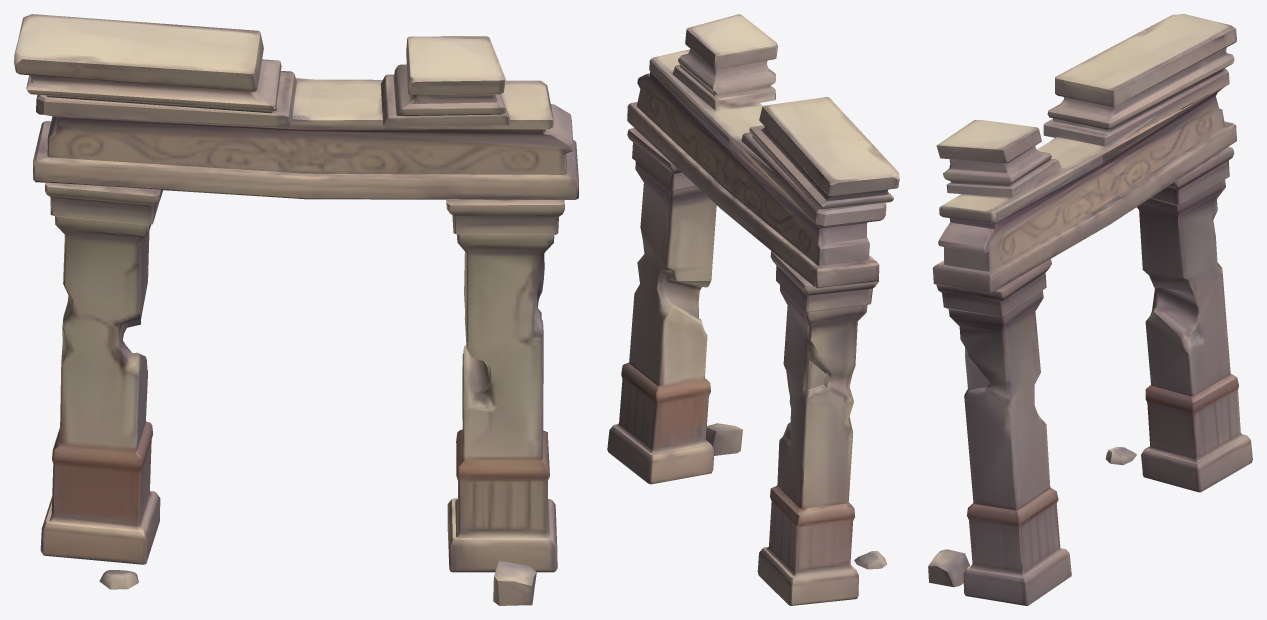
The model's file is SM_RuinGate_01.fbx.
The picture shows the model from 3 angles, left to right: view 1: azimuth 30°, elevation 25°; view 2: azimuth 150°, elevation 25°; view 3: azimuth 270°, elevation 25°; orthographic projection. The views are drawn at different scales.
Parts seen in each view (by area): view 1: SM_RuinGate_01; view 2: SM_RuinGate_01; view 3: SM_RuinGate_01.
Part boxes in pixels (x1,y1,x2,y2): SM_RuinGate_01: [14, 14, 578, 605]; SM_RuinGate_01: [607, 14, 899, 605]; SM_RuinGate_01: [928, 14, 1252, 605].
Size of the model in its own units: 80.82 by 92.24 by 62.62.
Materials: 1 (1 with a texture image).
